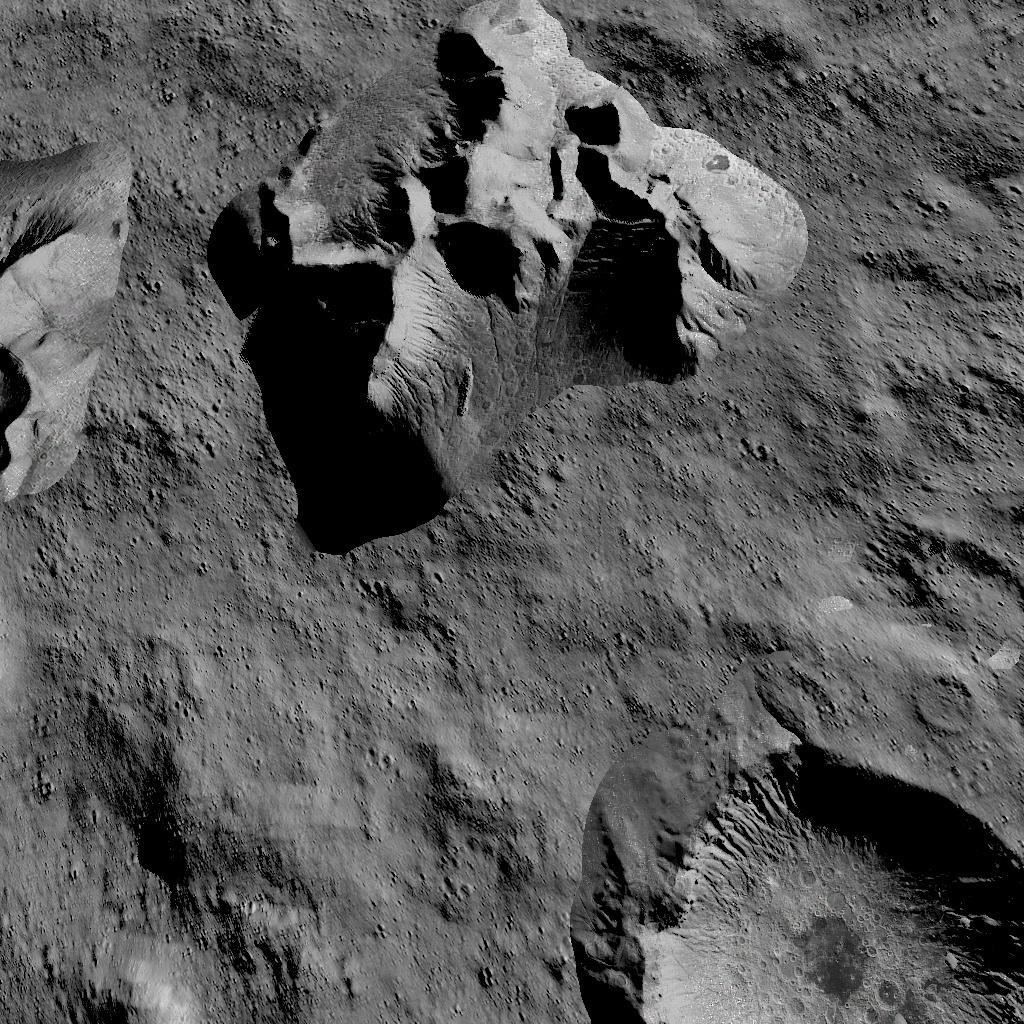Boulders: (203, 0, 809, 552), (0, 144, 139, 498), (72, 958, 240, 1024)
Crater: (573, 730, 1024, 1024), (873, 508, 1024, 654), (117, 782, 222, 892)
Plan surface: (260, 566, 552, 1024), (829, 0, 1024, 468), (12, 566, 244, 768), (575, 569, 849, 708)
